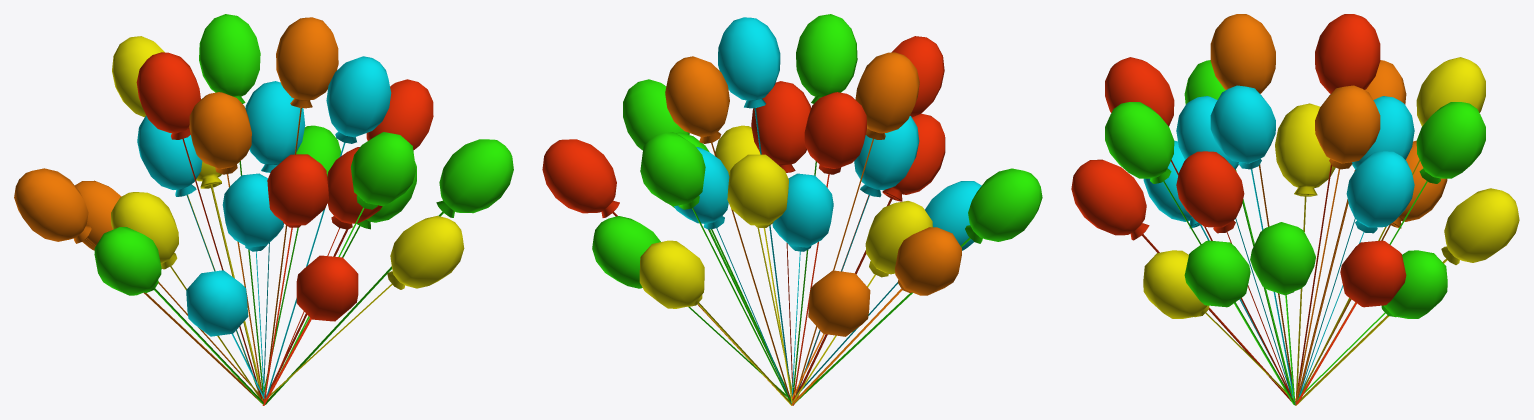
The model's file is Globos.fbx.
The picture shows the model from 3 angles, left to right: view 1: azimuth 30°, elevation 25°; view 2: azimuth 150°, elevation 25°; view 3: azimuth 270°, elevation 25°; orthographic projection.
Parts seen in each view (by area): view 1: Sphere.011; view 2: Sphere.011; view 3: Sphere.011.
Part boxes in pixels (<box>): Sphere.011: <box>14,14,513,405</box>; Sphere.011: <box>542,14,1042,405</box>; Sphere.011: <box>1071,14,1519,405</box>.
Size of the model in its own units: 1463 by 1180 by 1356.
